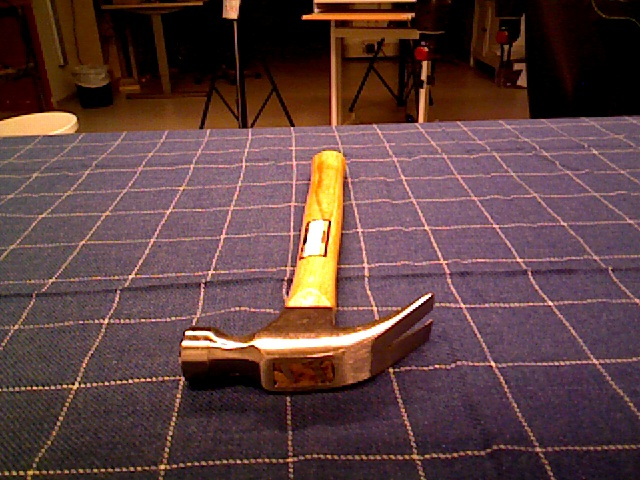hammer1: (178, 149, 435, 390)
